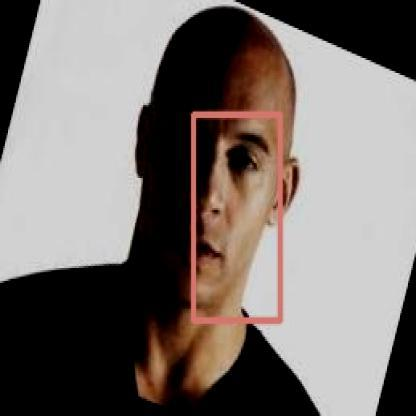without_mask: (193, 114, 279, 320)
